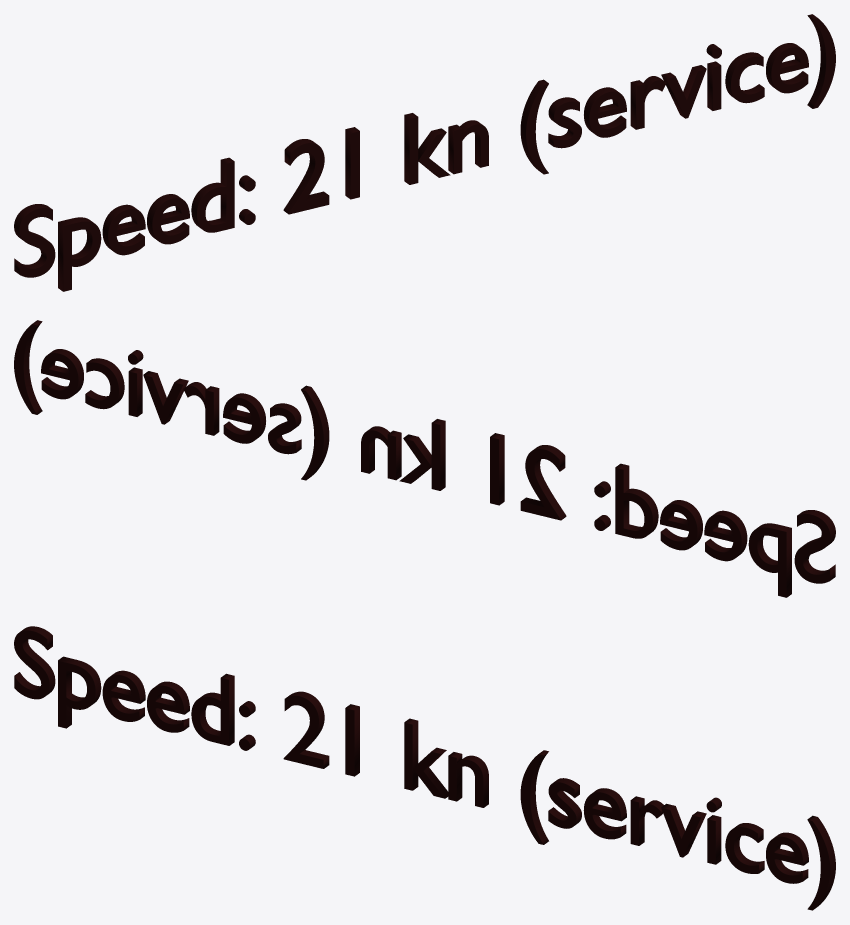
File: text_technical05.glb
The picture shows the model from 3 angles, top to bottom: view 1: azimuth 30°, elevation 25°; view 2: azimuth 150°, elevation 25°; view 3: azimuth 330°, elevation 25°; orthographic projection.
Visible parts, largest first — view 1: technical05; view 2: technical05; view 3: technical05.
Part boxes in pixels (x1,y1,x2,y2): technical05: [14, 14, 835, 291]; technical05: [14, 320, 835, 597]; technical05: [14, 626, 835, 910].
Bounding box in the file's own units: 152 × 15.96 × 1.79.
